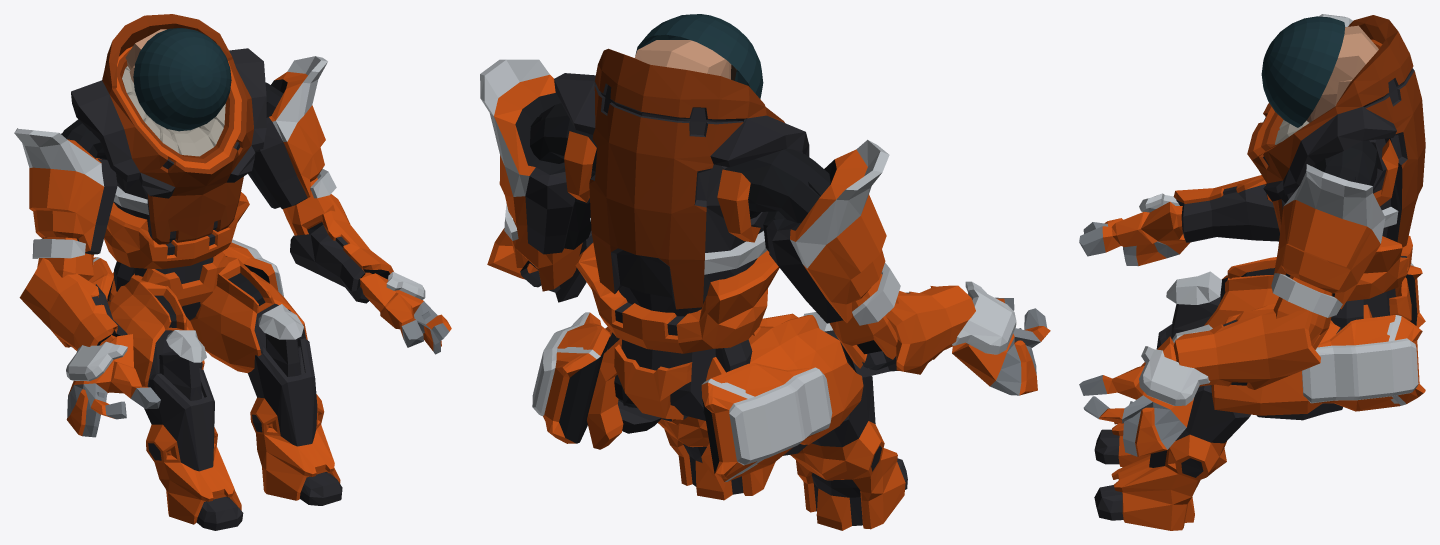
The model's file is LM_CrewExosuitSeated.obj.
3 renders of one model, left to right at view 1: azimuth 30°, elevation 25°; view 2: azimuth 150°, elevation 25°; view 3: azimuth 270°, elevation 25°, orthographic. The views are drawn at different scales.
Visible parts, largest first — view 1: crew_exosuit_seated; view 2: crew_exosuit_seated; view 3: crew_exosuit_seated.
Part boxes in pixels (x1,y1,x2,y2): crew_exosuit_seated: [14, 14, 451, 530]; crew_exosuit_seated: [480, 14, 1050, 530]; crew_exosuit_seated: [1079, 14, 1425, 530].
Size of the model in its own units: 1.3 by 1.42 by 0.9485.
